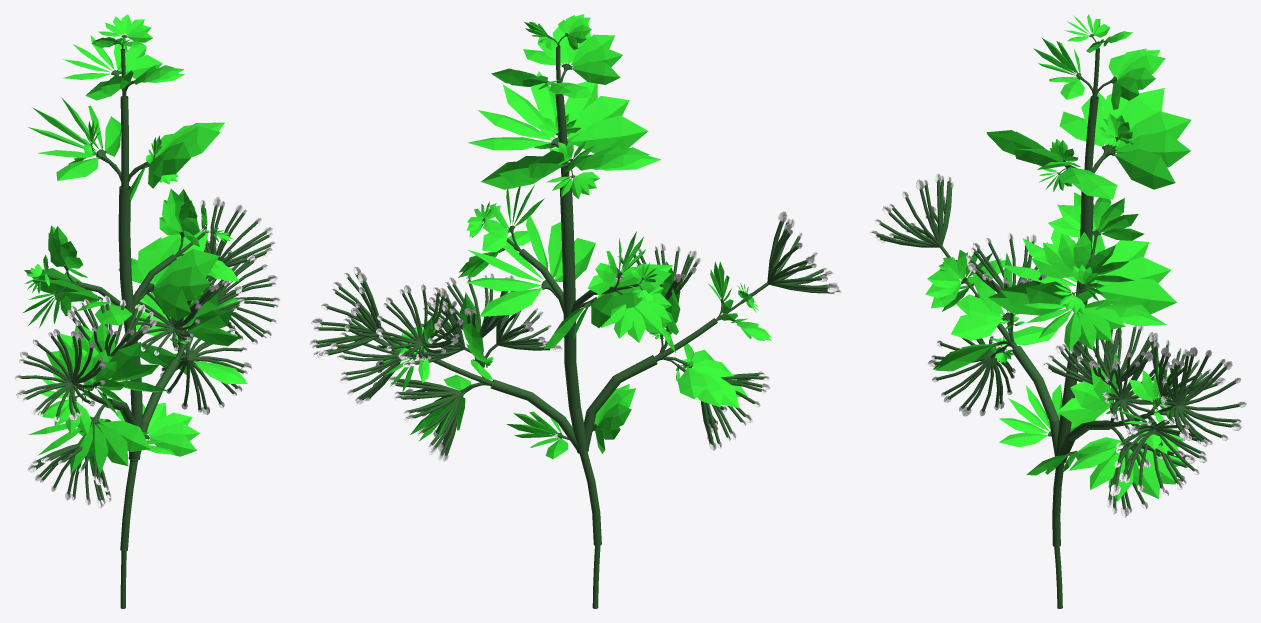
File: cow-parsley.obj
3 views of the same model, side by side, from view 1: azimuth 30°, elevation 25°; view 2: azimuth 150°, elevation 25°; view 3: azimuth 270°, elevation 25° (orthographic). The views are drawn at different scales.
Parts seen in each view (by area): view 1: Newplan; view 2: Newplan; view 3: Newplan.
Part boxes in pixels (x1,y1,x2,y2): Newplan: [14, 14, 280, 608]; Newplan: [309, 14, 841, 608]; Newplan: [870, 14, 1246, 608].
Bounding box in the file's own units: 63.97 × 91.18 × 52.58.
